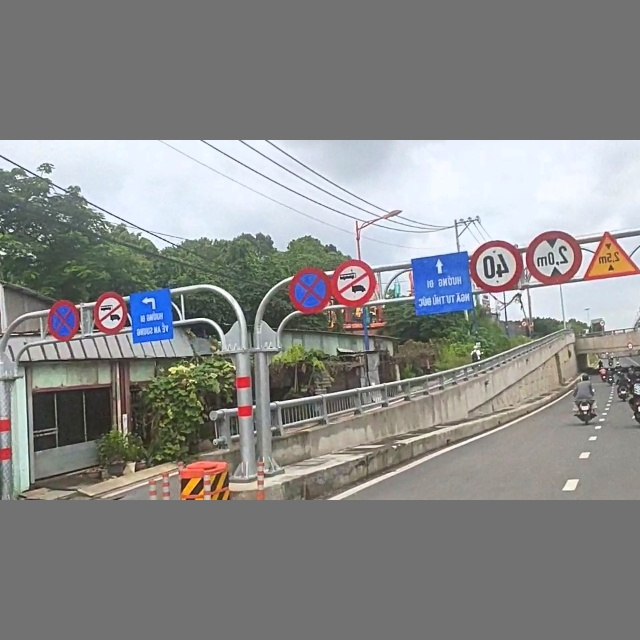P.107: (329, 259, 379, 309), (92, 291, 128, 336)
P.117*: (526, 229, 580, 286)
P.127*40: (470, 237, 523, 295)
P.130: (288, 266, 328, 317), (47, 299, 80, 343)
W.239b*: (582, 230, 639, 283)
